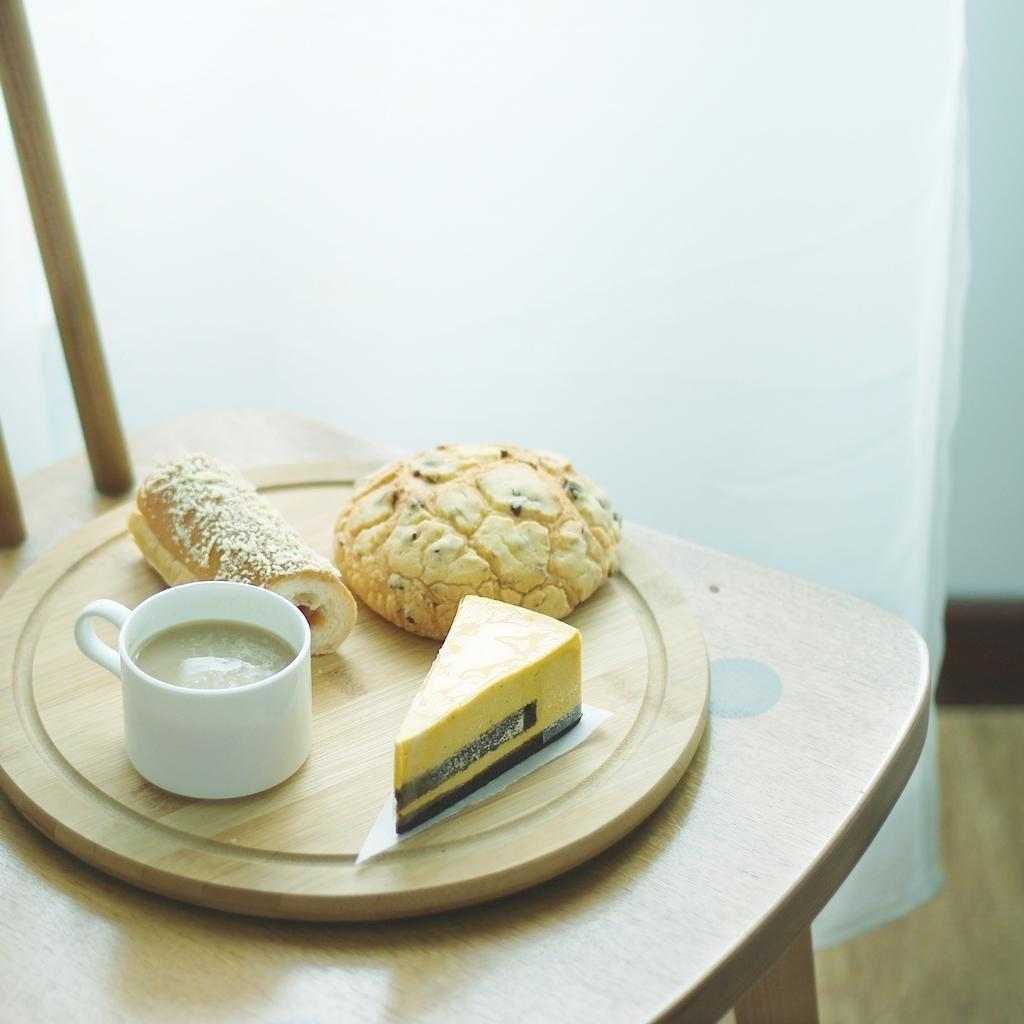cup-handle: (73, 576, 318, 805)
